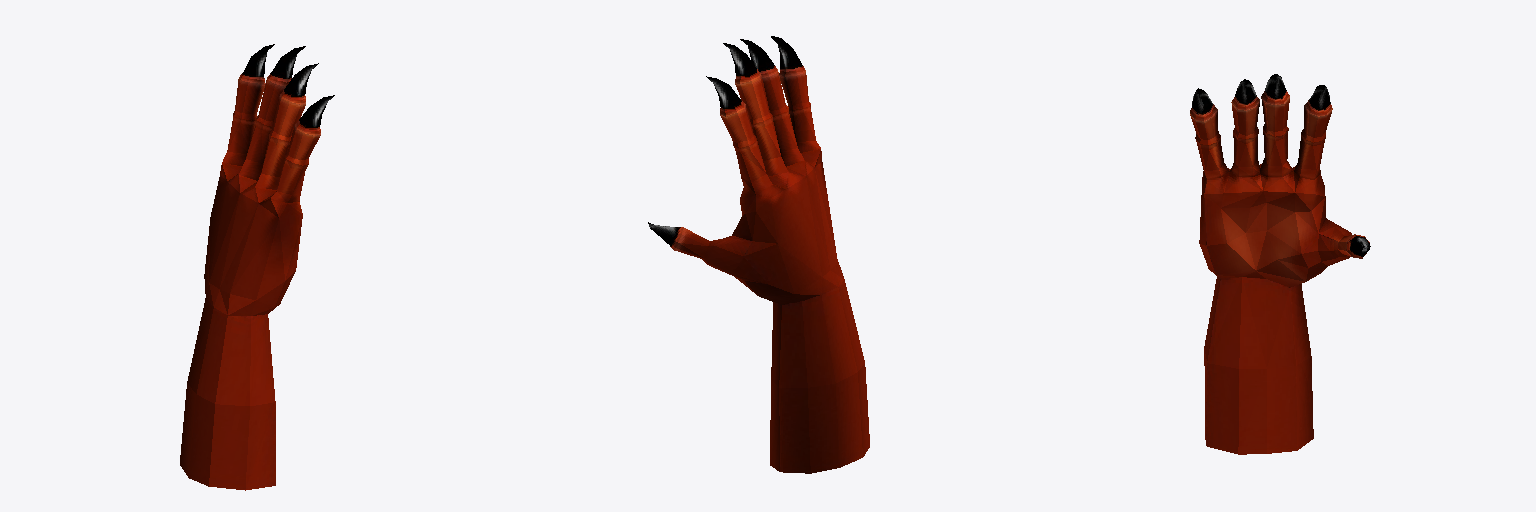
3 views of the same model, side by side, from view 1: azimuth 30°, elevation 25°; view 2: azimuth 150°, elevation 25°; view 3: azimuth 270°, elevation 25° (orthographic).
Parts seen in each view (by area): view 1: Group; view 2: Group; view 3: Group.
Part boxes in pixels (bbox=[...]): Group: bbox=[180, 44, 334, 490]; Group: bbox=[648, 36, 869, 473]; Group: bbox=[1190, 74, 1370, 454].
Bounding box in the file's own units: 5.82 × 13.72 × 5.63.
1 materials, 1 textured.